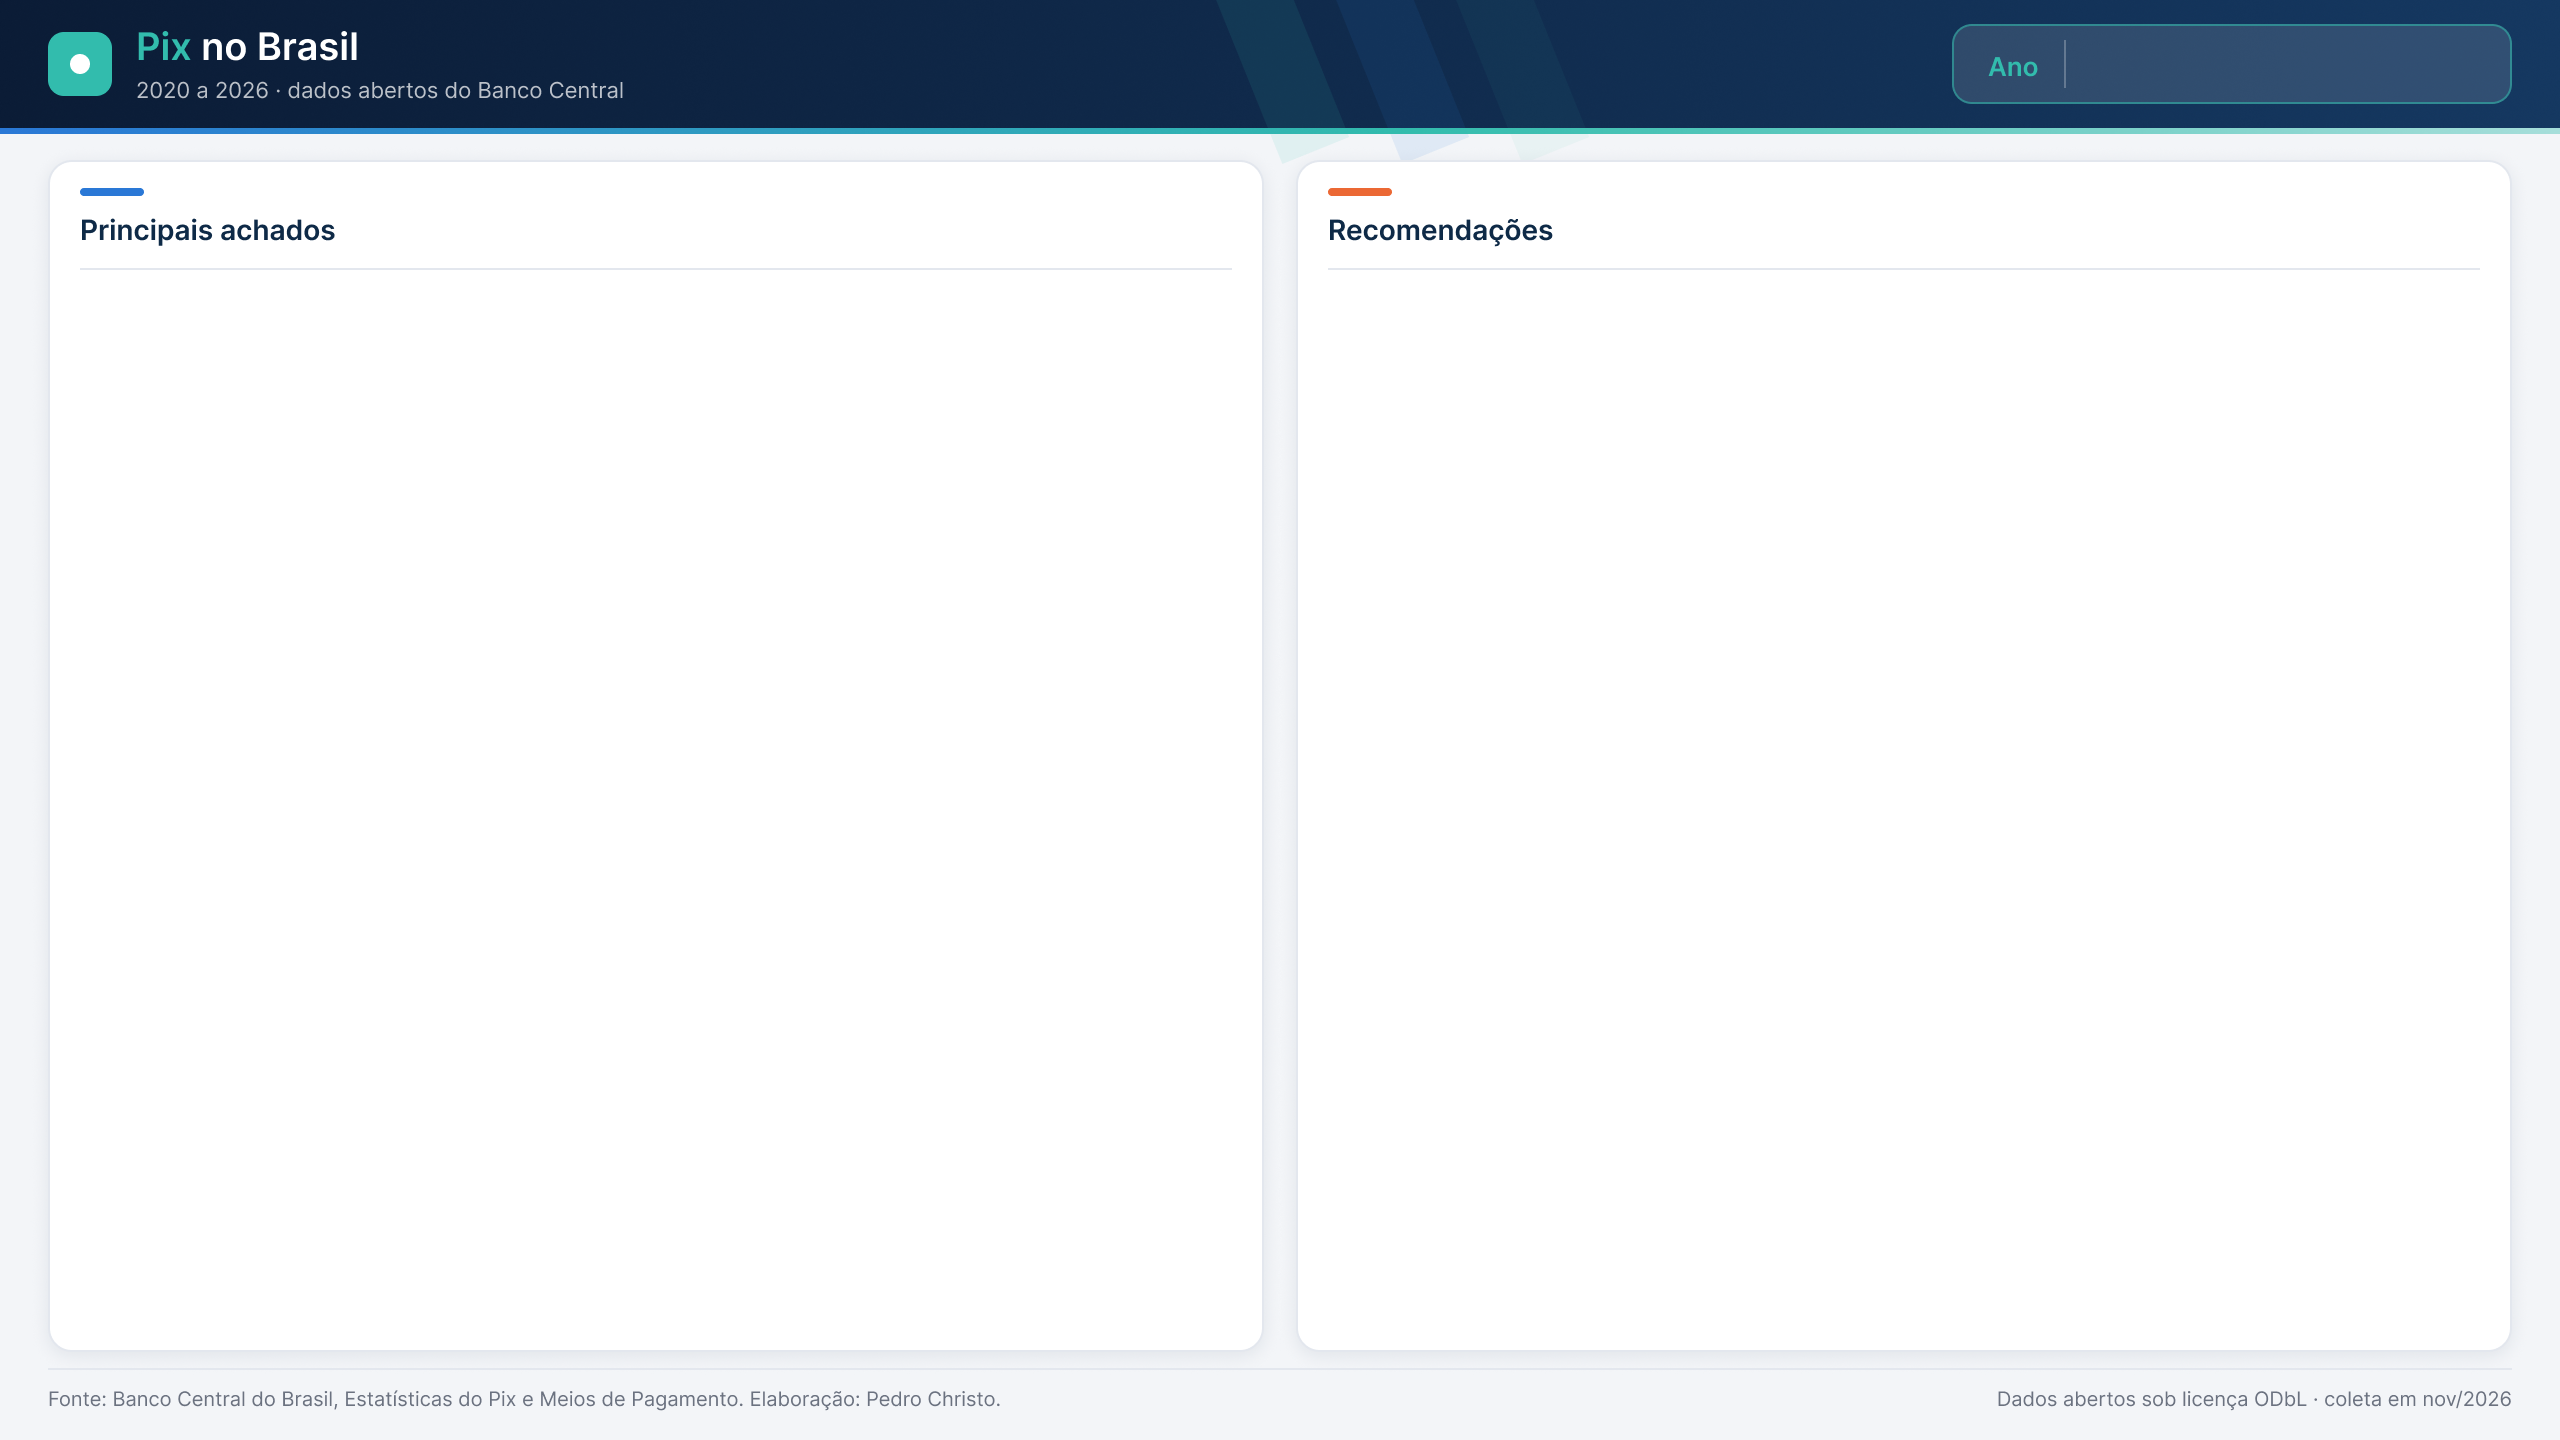

This screenshot's page, from the dashboard's own definition file:
{"tool":"powerbi","page":{"name":"Conclusões","canvas":[1920,1080],"ordinal":5},"visuals":[{"type":"textbox","box":[72.5,200,832.5,795],"z":1000},{"type":"textbox","box":[985,200,887.5,795],"z":2000},{"type":"shape","box":[1430,0,490,86],"z":3000}]}

Visuals, with their boxes in screenshot pixels (x1, y1, x2, y2), scaled from the page's 1920x1080 canvas onto the 2560x1440 screenshot:
textbox: box(97, 267, 1207, 1327)
textbox: box(1313, 267, 2497, 1327)
shape: box(1907, 0, 2559, 115)
